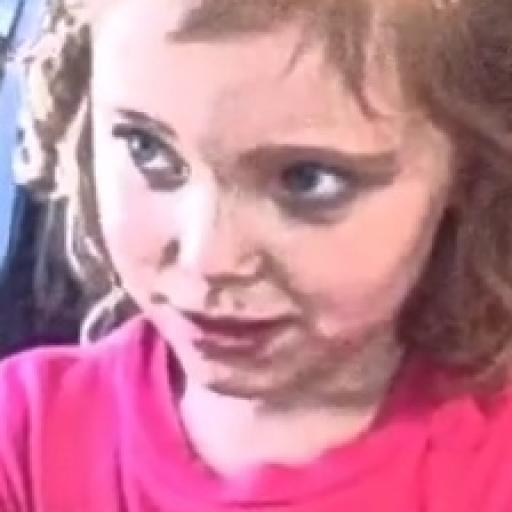Autism: (29, 38, 512, 498)
